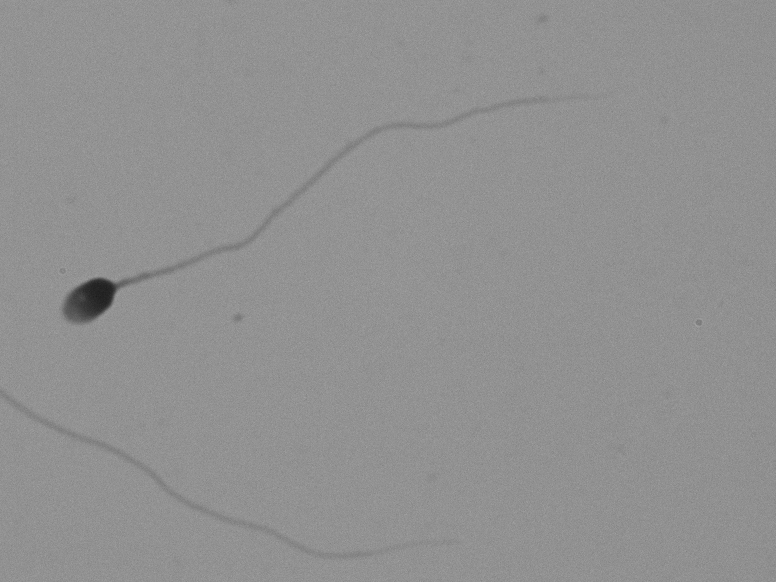Normal: (35, 81, 648, 358)
